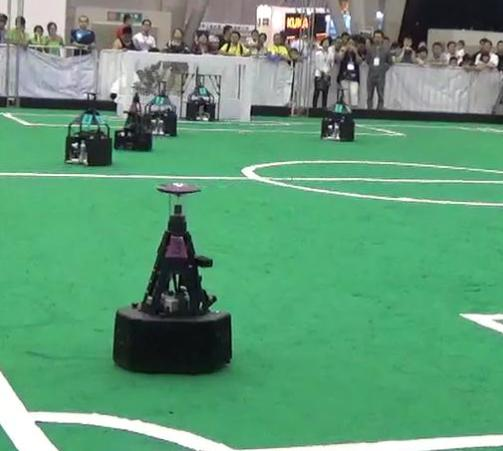robot: (110, 175, 236, 373), (56, 87, 113, 168)
